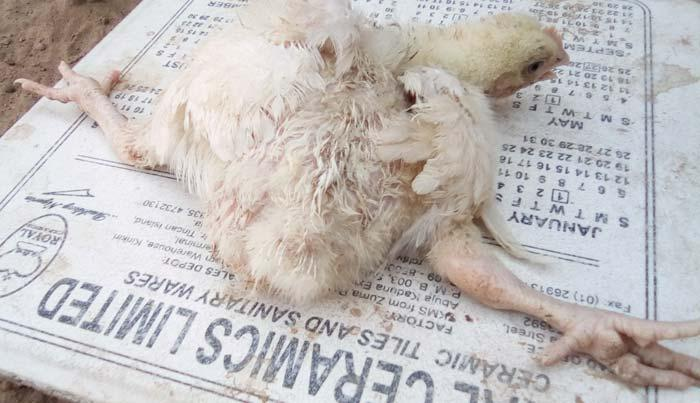AbNormal: (17, 10, 700, 392)
